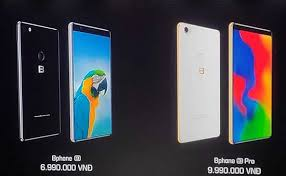bphone: (172, 19, 223, 144), (225, 18, 276, 143), (65, 17, 116, 142), (12, 17, 63, 142)
